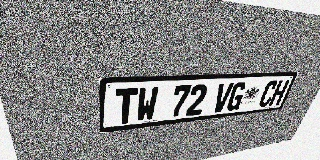2: (185, 84, 209, 116)
7: (169, 85, 192, 118)
C: (257, 80, 279, 107)
G: (225, 82, 248, 111)
H: (268, 80, 290, 106)
T: (115, 88, 138, 125)
V: (211, 83, 234, 113)
W: (136, 86, 159, 122)
